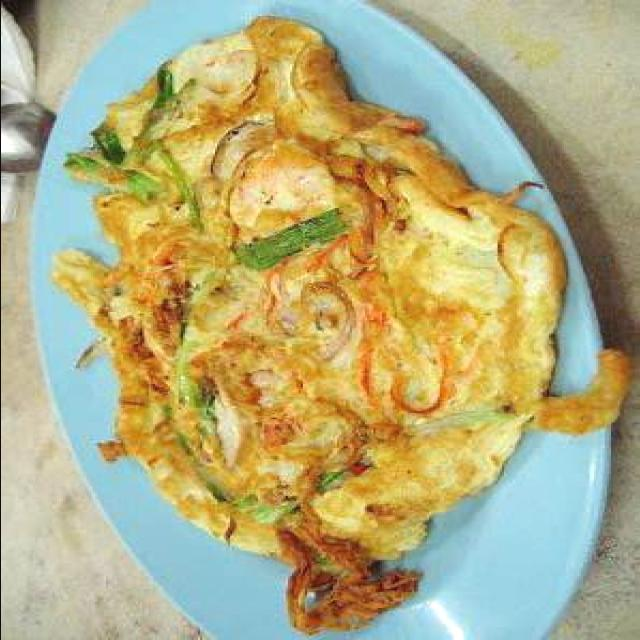telur dadar: (49, 13, 631, 634)
